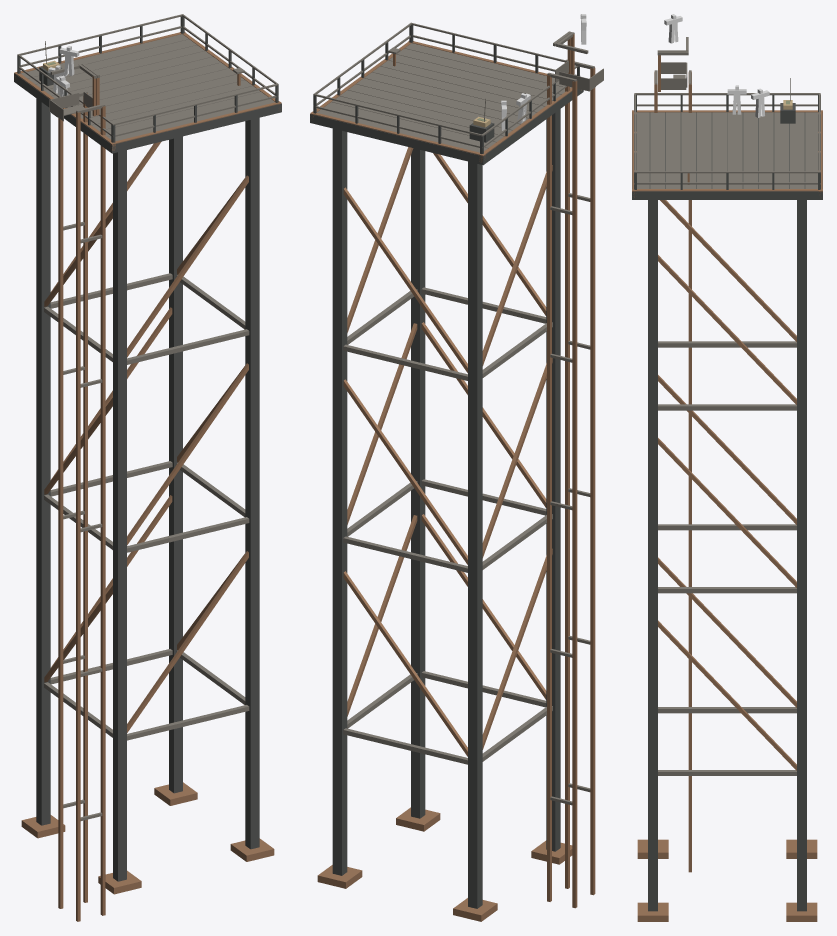
Rendered from animated_tower.glb.
3 renders of one model, left to right at view 1: azimuth 30°, elevation 25°; view 2: azimuth 150°, elevation 25°; view 3: azimuth 270°, elevation 25°, orthographic. The views are drawn at different scales.
Parts seen in each view (by area): view 1: Support_4, Support_1, Support_2, Support_3, LiftShaft_1, LiftShaft_4, LiftShaft_2, LiftShaft_3, DeckStructure, DeckPanel_08, CrossBrace_04, CrossBrace_02 (+27 smaller); view 2: Support_3, Support_1, Support_4, Support_2, LiftShaft_1, LiftShaft_2, LiftShaft_3, LiftShaft_4, DeckStructure, DeckPanel_10, DeckPanel_05, CrossBrace_03 (+36 smaller); view 3: Support_3, Support_4, DeckStructure, LiftShaft_3, DeckPanel_07, DeckPanel_09, DeckPanel_06, DeckPanel_04, DeckPanel_05, DeckPanel_10, DeckPanel_02, DeckPanel_03 (+26 smaller).
Part boxes in pixels (x1,y1,x2,y2): Support_4: (245,117,259,849); Support_1: (36,98,50,825); Support_2: (113,150,126,881); Support_3: (169,136,182,793); LiftShaft_1: (58,108,63,908); LiftShaft_4: (100,106,105,915); LiftShaft_2: (76,112,80,921); LiftShaft_3: (83,93,87,902); DeckStructure: (14,73,281,153); DeckPanel_08: (87,80,252,125); CrossBrace_04: (127,363,248,545); CrossBrace_02: (127,551,248,732); Support_3: (332,128,347,875); Support_1: (468,161,482,908); Support_4: (411,148,425,818); Support_2: (546,109,560,851); LiftShaft_1: (572,81,577,908); LiftShaft_2: (590,68,595,895); LiftShaft_3: (547,75,551,901); LiftShaft_4: (565,62,569,888); DeckStructure: (310,88,583,165); DeckPanel_10: (396,48,565,94); DeckPanel_05: (356,78,528,124); CrossBrace_03: (343,379,467,564); Support_3: (797,200,806,911); Support_4: (648,200,657,911); DeckStructure: (632,112,822,199); LiftShaft_3: (688,83,691,872); DeckPanel_07: (696,112,711,188); DeckPanel_09: (665,112,680,188); DeckPanel_06: (712,112,727,188); DeckPanel_04: (743,112,758,188); DeckPanel_05: (727,112,742,188); DeckPanel_10: (650,112,664,188); DeckPanel_02: (774,112,789,188); DeckPanel_03: (759,112,773,188).
Bounding box in the file's own units: 14.79 × 60.06 × 12.3.
